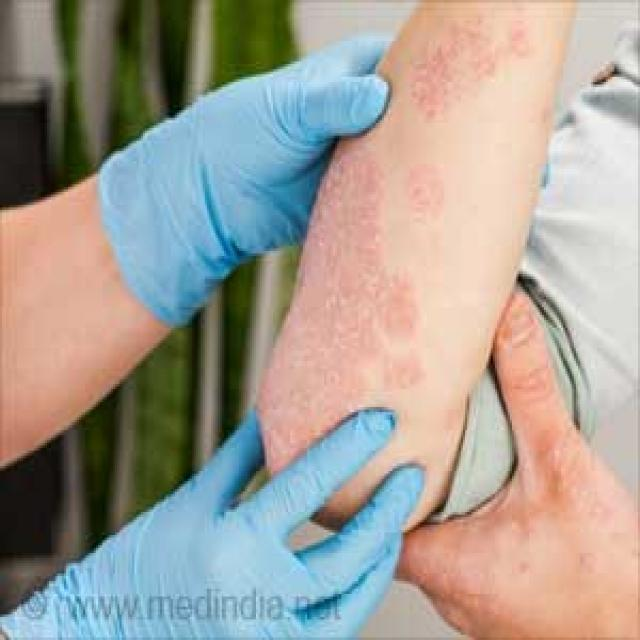eczema: (304, 233, 364, 414), (405, 29, 511, 117), (313, 154, 403, 224)
